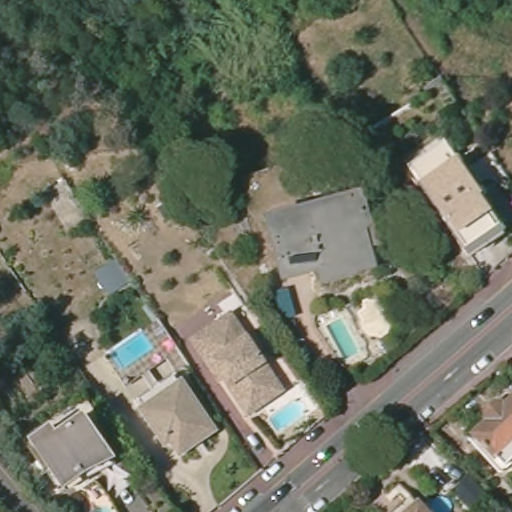pool: (112, 331, 154, 367), (269, 398, 311, 434), (327, 316, 359, 362), (425, 491, 458, 509)
